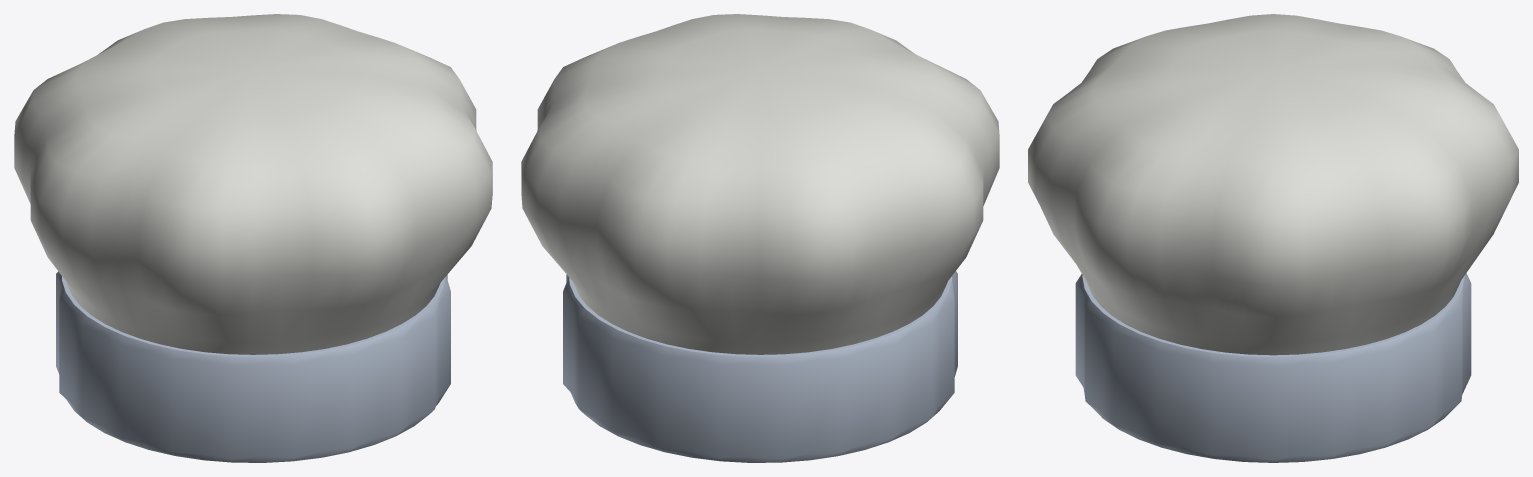
Rendered from hat_chef.glb.
The picture shows the model from 3 angles, left to right: view 1: azimuth 30°, elevation 25°; view 2: azimuth 150°, elevation 25°; view 3: azimuth 270°, elevation 25°; orthographic projection.
Visible parts, largest first — view 1: hat_chef; view 2: hat_chef; view 3: hat_chef.
Part boxes in pixels (<box>): hat_chef: <box>14,14,492,462</box>; hat_chef: <box>521,14,999,462</box>; hat_chef: <box>1028,14,1518,462</box>.
Size of the model in its own units: 0.673 by 0.472 by 0.673.
